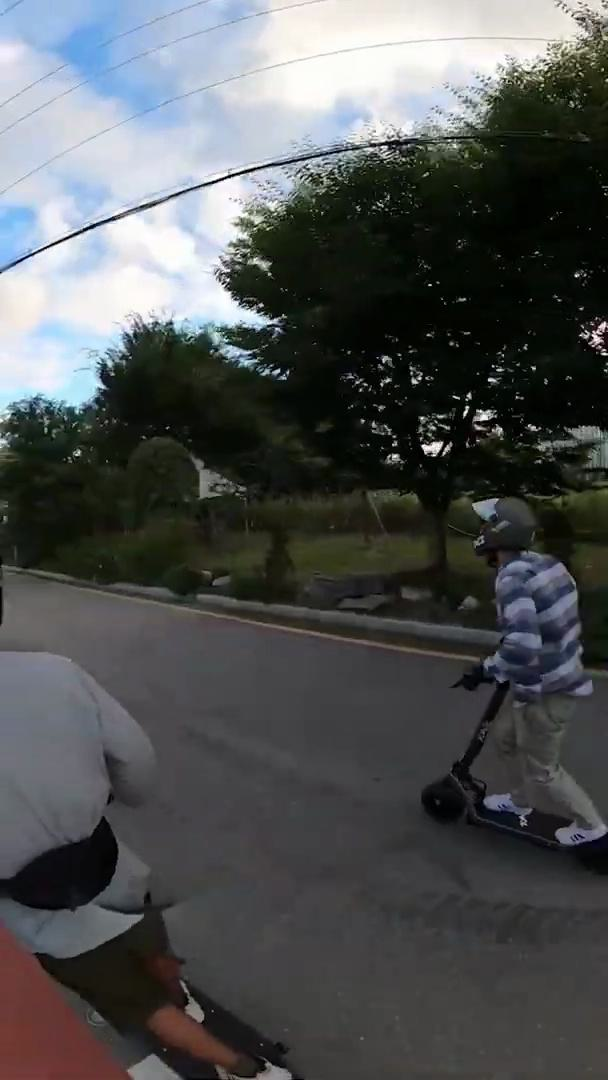helmet: (415, 495, 607, 871)
